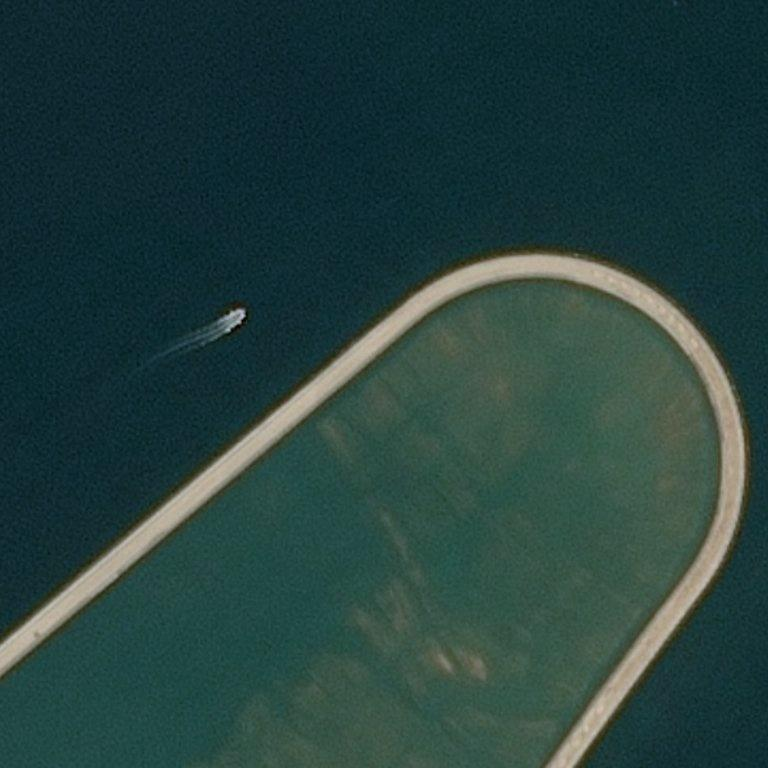ship: (221, 298, 247, 322), (242, 307, 246, 313), (221, 312, 225, 318), (74, 309, 79, 313)
